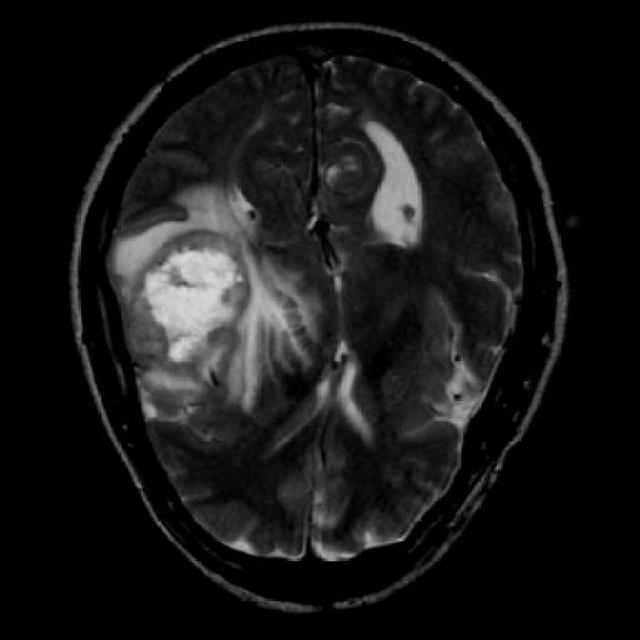Brain-Tumor: (126, 211, 264, 390)
